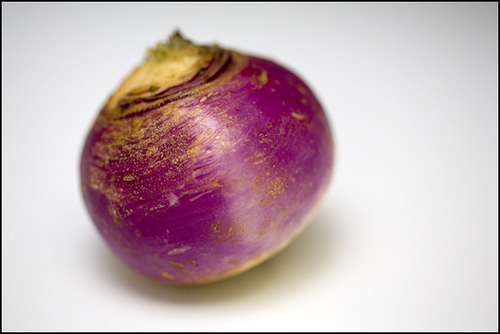turnip: (78, 28, 337, 285)
